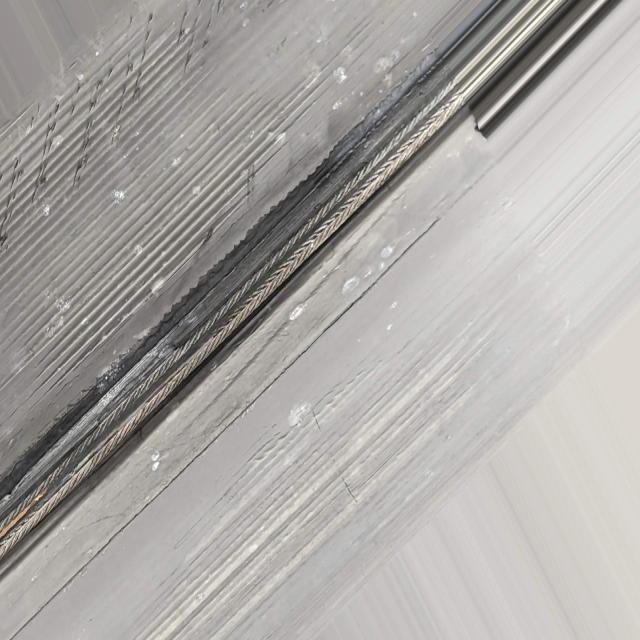Tear: (0, 62, 471, 585)
Wear: (0, 0, 334, 402)
